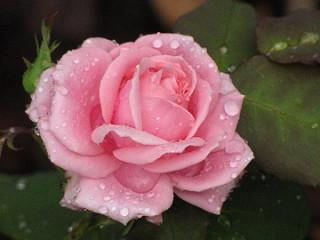Rose: (29, 31, 249, 222)
